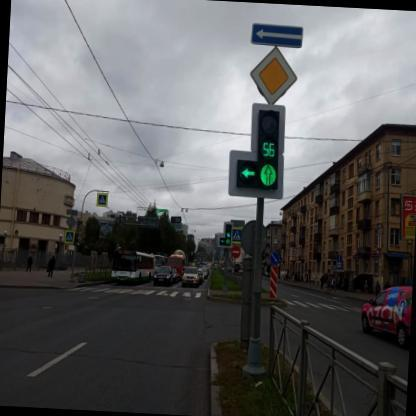road_sign: (250, 47, 297, 104), (252, 24, 302, 46), (269, 267, 278, 298), (231, 246, 241, 258)
traffic light: (236, 110, 279, 190), (219, 224, 232, 246)
